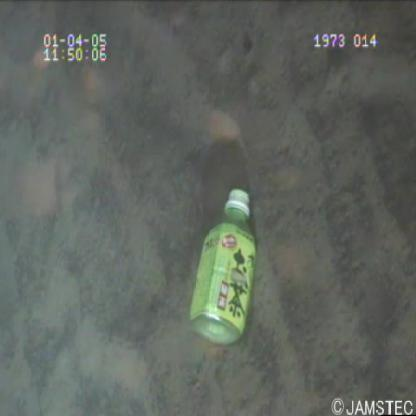Rác: (184, 179, 276, 357)
